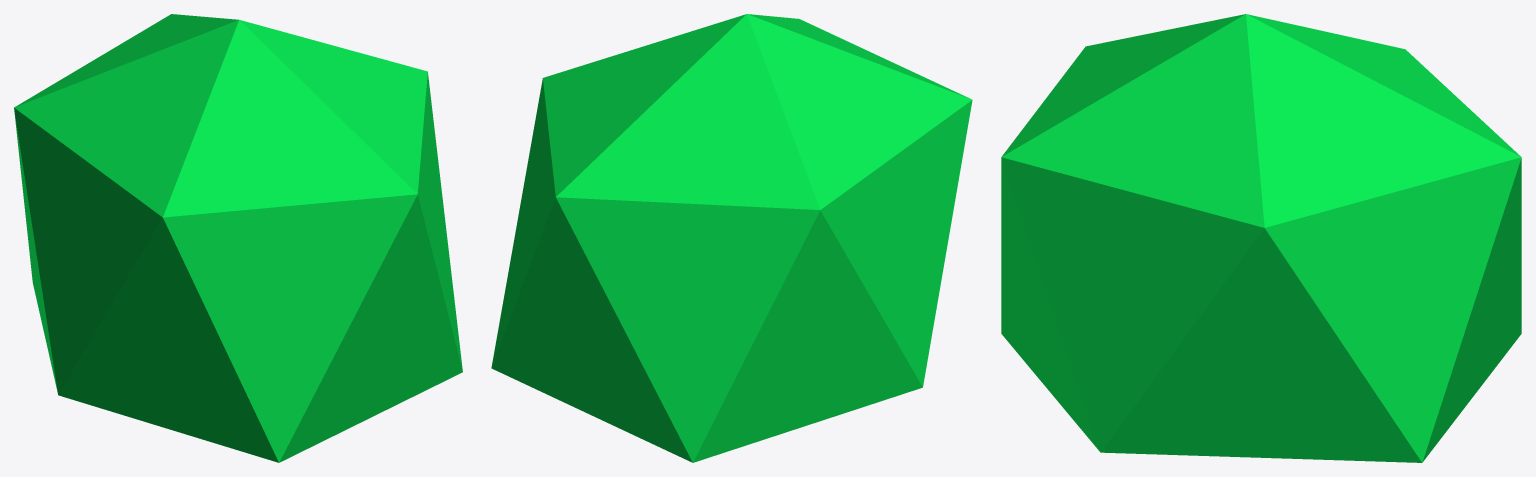
File: Moita2.fbx
3 views of the same model, side by side, from view 1: azimuth 30°, elevation 25°; view 2: azimuth 150°, elevation 25°; view 3: azimuth 270°, elevation 25° (orthographic). The views are drawn at different scales.
Visible parts, largest first — view 1: Icosphere.001; view 2: Icosphere.001; view 3: Icosphere.001.
Boxes of the visible parts, box(x1,y1,x2,y2) form: Icosphere.001: box(14, 14, 462, 462); Icosphere.001: box(491, 14, 972, 462); Icosphere.001: box(1001, 14, 1521, 462).
Bounding box in the file's own units: 150 × 133 × 170.
